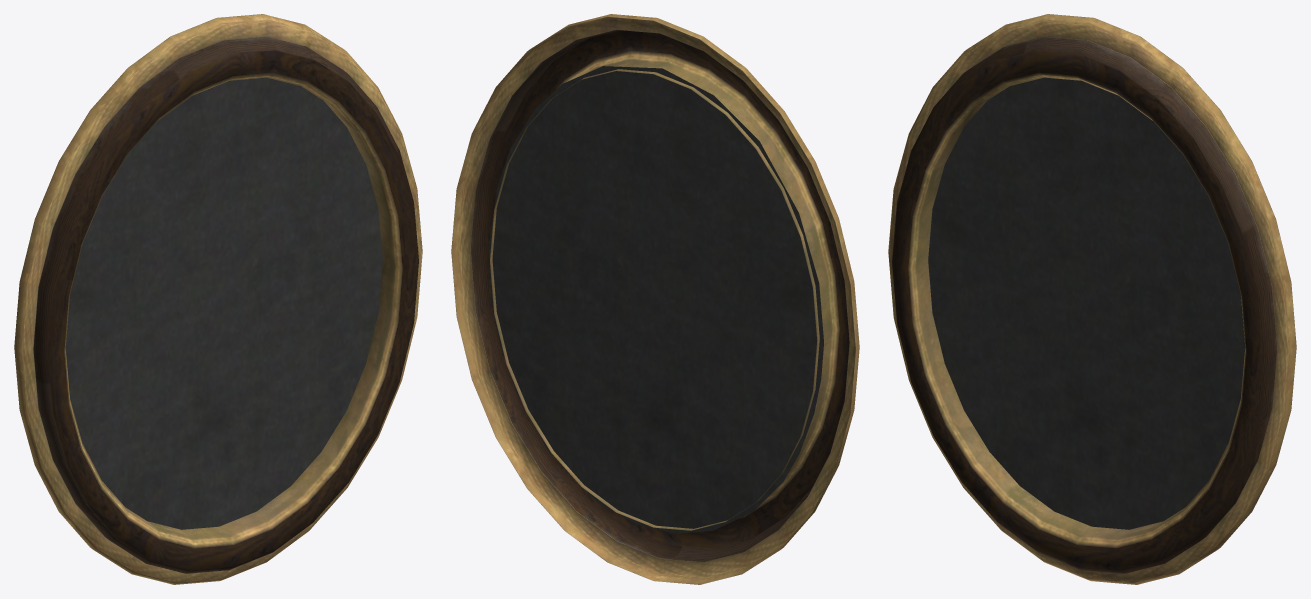
Rendered from frame03.glb.
The picture shows the model from 3 angles, left to right: view 1: azimuth 30°, elevation 25°; view 2: azimuth 150°, elevation 25°; view 3: azimuth 330°, elevation 25°; orthographic projection.
Parts seen in each view (by area): view 1: Snake Skeleton Frame_Snake Skeleton Frame_0.005; view 2: Snake Skeleton Frame_Snake Skeleton Frame_0.005; view 3: Snake Skeleton Frame_Snake Skeleton Frame_0.005.
Part boxes in pixels (x1=…): Snake Skeleton Frame_Snake Skeleton Frame_0.005: x1=14, y1=14, x2=422, y2=584; Snake Skeleton Frame_Snake Skeleton Frame_0.005: x1=451, y1=14, x2=859, y2=584; Snake Skeleton Frame_Snake Skeleton Frame_0.005: x1=888, y1=14, x2=1296, y2=584.
Bounding box in the file's own units: 0.2503 × 0.3313 × 0.0182.
Materials: 1 (1 with a texture image).
